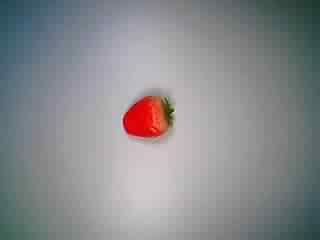strawberry: (115, 83, 181, 149)
